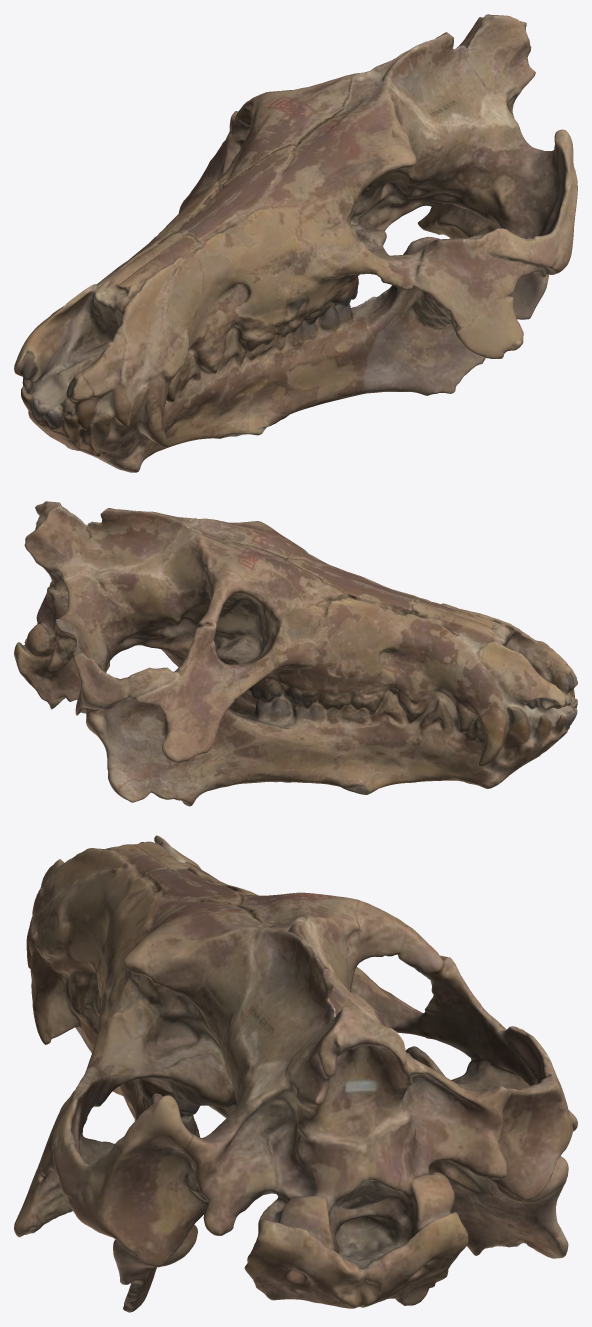
3 renders of one model, top to bottom at view 1: azimuth 30°, elevation 25°; view 2: azimuth 150°, elevation 25°; view 3: azimuth 270°, elevation 25°, orthographic. The views are drawn at different scales.
Visible parts, largest first — view 1: Archaeotherium_mortoni_Leidy__1850-unwrapped-webmulti; view 2: Archaeotherium_mortoni_Leidy__1850-unwrapped-webmulti; view 3: Archaeotherium_mortoni_Leidy__1850-unwrapped-webmulti.
Boxes of the visible parts, bbox=[...] form: Archaeotherium_mortoni_Leidy__1850-unwrapped-webmulti: bbox=[14, 14, 577, 472]; Archaeotherium_mortoni_Leidy__1850-unwrapped-webmulti: bbox=[14, 501, 577, 806]; Archaeotherium_mortoni_Leidy__1850-unwrapped-webmulti: bbox=[14, 835, 577, 1312].
Bounding box in the file's own units: 11826 × 5538 × 7266.
Materials: 1 (1 with a texture image).
